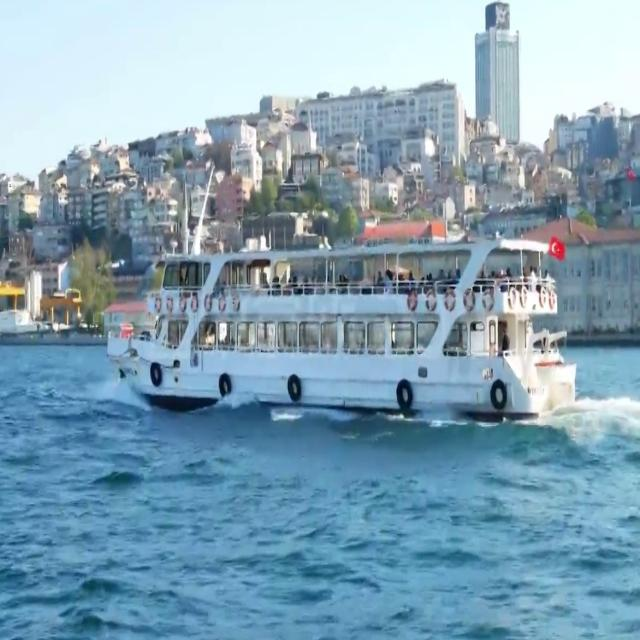passenger ship: (110, 224, 580, 413)
